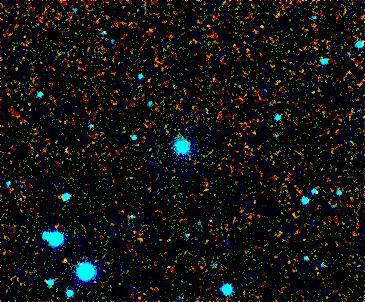star: (49, 245, 79, 275)
